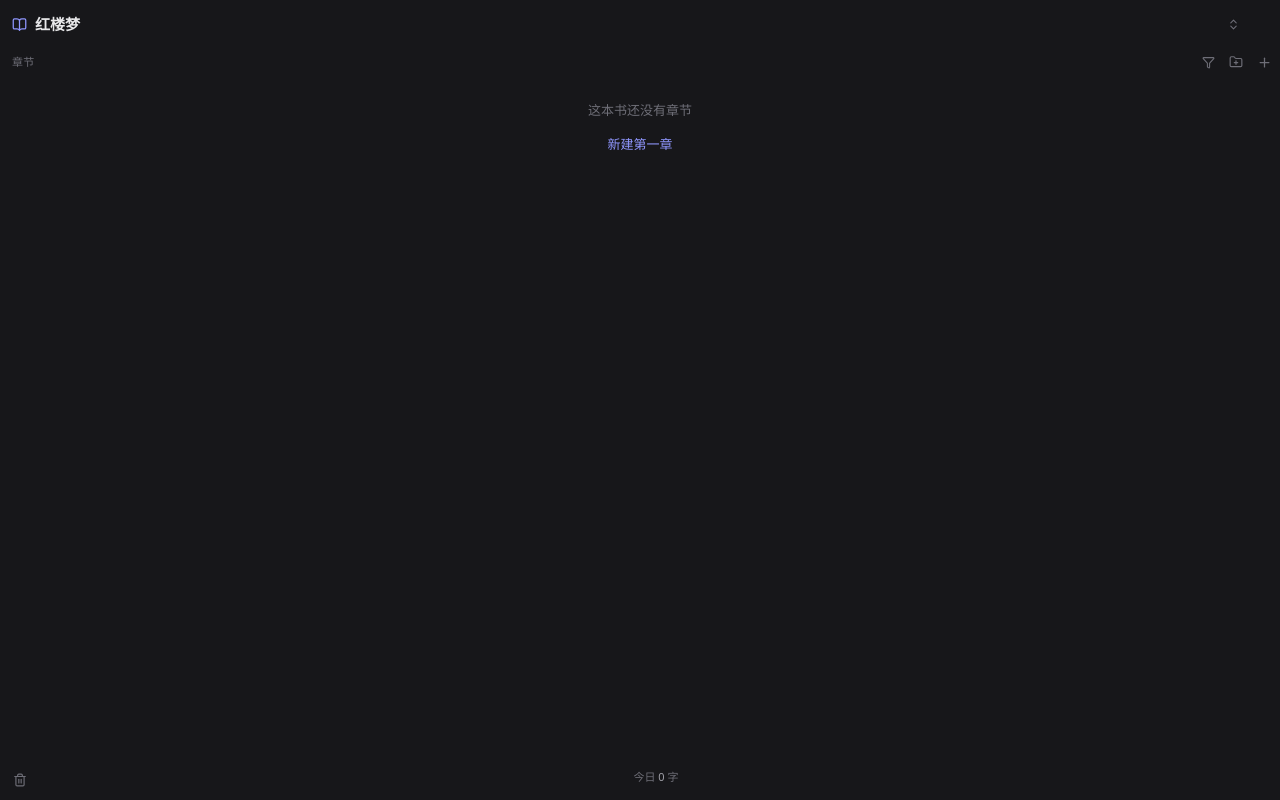
Test: Sidebar › 回收站按钮开关 TrashPanel（M2-T6 入口接线）
The image size is (1280, 800).
Expected: the text "回收站是空的" is not shown
Click the button named "回收站" at (20, 780), box top-left (8, 768), bottom-right (32, 792)
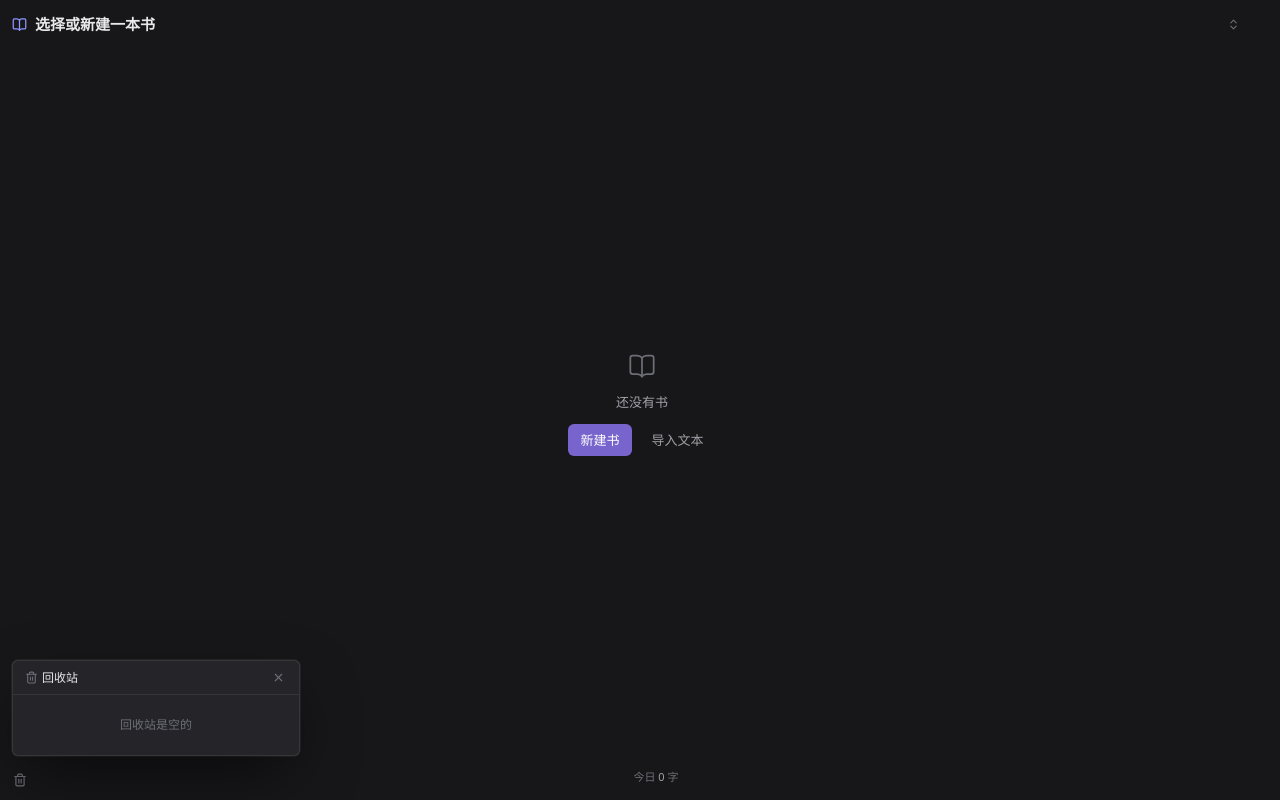
Now the text "回收站是空的" is shown, box top-left (120, 716), bottom-right (192, 733)
再次点击收起（按钮带 data-trash-toggle，面板的点击外部关闭不会抢跑）
Click the button named "回收站" at (20, 780), box top-left (8, 768), bottom-right (32, 792)
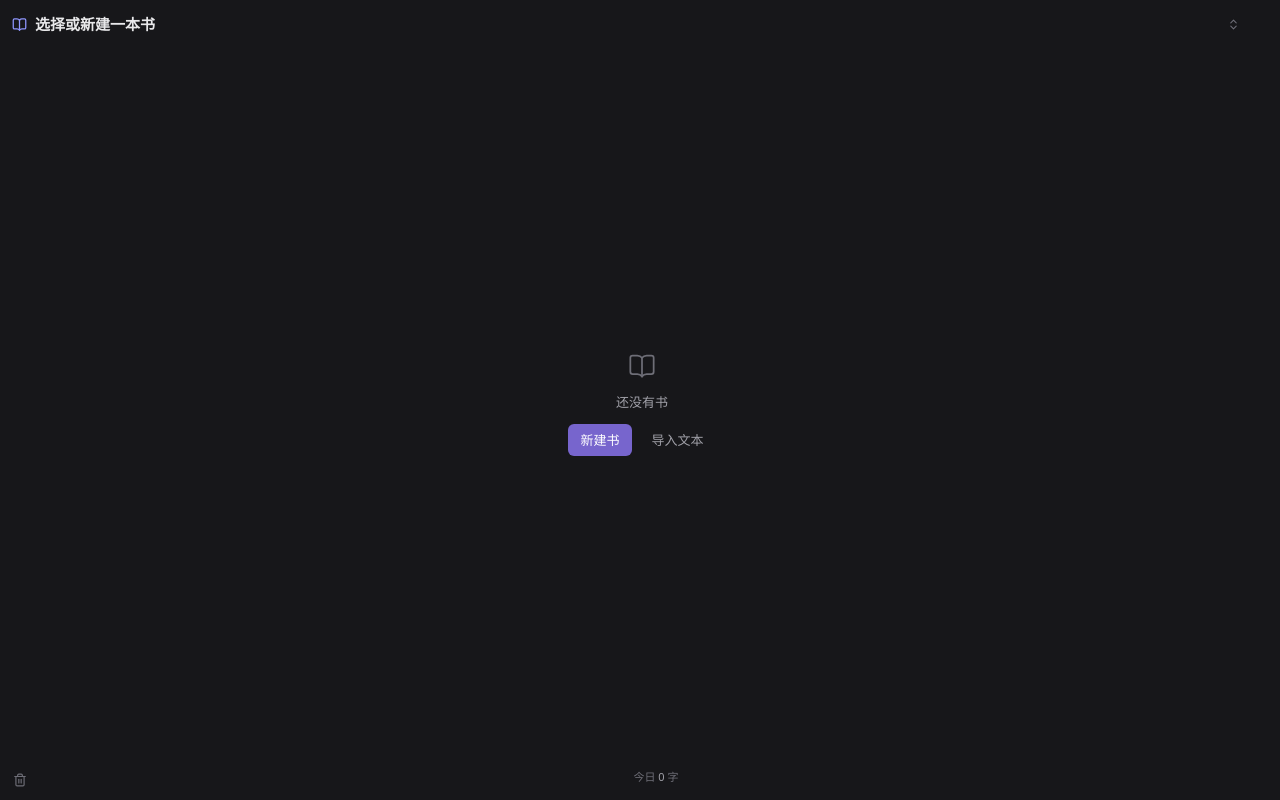
Now the text "回收站是空的" is gone
